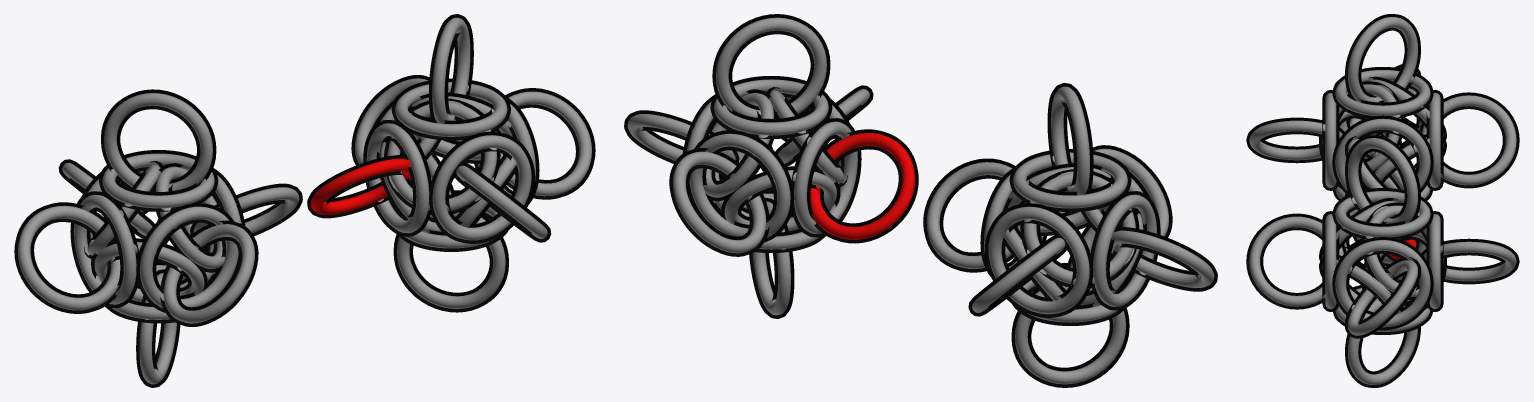
The model's file is tetraorb_line_step_04.glb.
The picture shows the model from 3 angles, left to right: view 1: azimuth 30°, elevation 25°; view 2: azimuth 150°, elevation 25°; view 3: azimuth 270°, elevation 25°; orthographic projection. The views are drawn at different scales.
Visible parts, largest first — view 1: Torus.010, Torus.517, Torus.520, Torus.515, Torus.509, Torus.007, Torus.514, Torus.006, Torus.002, Torus.011, Torus.511, Torus.001 (+17 smaller); view 2: Torus.510, Torus.005, Torus.001, Torus.003, Torus.009, Torus.514, Torus.007, Torus.518, Torus.519, Torus.511, Torus.011, Torus.520 (+17 smaller); view 3: Torus.008, Torus.516, Torus.004, Torus.005, Torus.517, Torus.002, Torus.513, Torus.011, Torus.511, Torus.515, Torus.003, Torus.006 (+13 smaller).
Part boxes in pixels (left/top/right/bottom): Torus.010: left=429, top=131, right=535, bottom=243; Torus.517: left=101, top=89, right=216, bottom=190; Torus.520: left=14, top=202, right=120, bottom=313; Torus.515: left=160, top=220, right=258, bottom=326; Torus.509: left=136, top=203, right=238, bottom=312; Torus.007: left=363, top=120, right=432, bottom=236; Torus.514: left=70, top=191, right=139, bottom=307; Torus.006: left=393, top=212, right=508, bottom=312; Torus.002: left=495, top=88, right=595, bottom=199; Torus.011: left=391, top=78, right=510, bottom=140; Torus.511: left=99, top=150, right=218, bottom=211; Torus.001: left=307, top=155, right=411, bottom=218; Torus.510: left=985, top=203, right=1093, bottom=317; Torus.005: left=712, top=14, right=830, bottom=117; Torus.001: left=810, top=129, right=918, bottom=243; Torus.003: left=669, top=148, right=769, bottom=256; Torus.009: left=689, top=130, right=794, bottom=242; Torus.514: left=1089, top=191, right=1160, bottom=310; Torus.007: left=790, top=118, right=861, bottom=237; Torus.518: left=1011, top=285, right=1129, bottom=387; Torus.519: left=923, top=158, right=1025, bottom=272; Torus.511: left=1009, top=149, right=1131, bottom=211; Torus.011: left=710, top=76, right=832, bottom=138; Torus.520: left=1111, top=227, right=1217, bottom=291; Torus.008: left=1332, top=237, right=1433, bottom=330; Torus.516: left=1419, top=92, right=1519, bottom=188; Torus.004: left=1246, top=213, right=1346, bottom=309; Torus.005: left=1345, top=135, right=1420, bottom=223; Torus.517: left=1345, top=14, right=1420, bottom=102; Torus.002: left=1345, top=257, right=1420, bottom=338; Torus.513: left=1332, top=115, right=1433, bottom=192; Torus.011: left=1332, top=188, right=1433, bottom=240; Torus.511: left=1332, top=67, right=1433, bottom=118; Torus.515: left=1246, top=117, right=1344, bottom=163; Torus.003: left=1421, top=238, right=1519, bottom=284; Torus.006: left=1345, top=298, right=1420, bottom=387.
Size of the model in its own units: 18.56 by 9.06 by 9.06.
